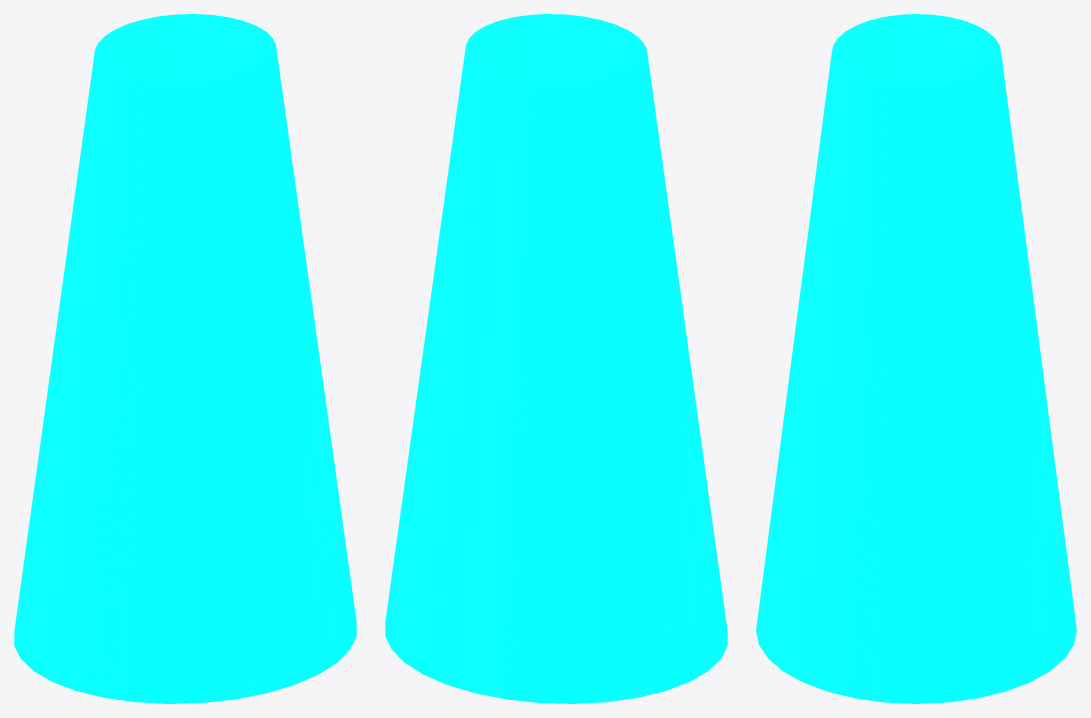
The model's file is light.glb.
3 views of the same model, side by side, from view 1: azimuth 30°, elevation 25°; view 2: azimuth 150°, elevation 25°; view 3: azimuth 270°, elevation 25° (orthographic).
Visible parts, largest first — view 1: Object_18; view 2: Object_18; view 3: Object_18.
Part boxes in pixels (left/top/right/bottom): Object_18: left=14, top=14, right=356, bottom=703; Object_18: left=385, top=14, right=727, bottom=703; Object_18: left=756, top=14, right=1076, bottom=703.
Bounding box in the file's own units: 4.2 × 7.7 × 3.88.
Materials: 1 (1 with a texture image).
